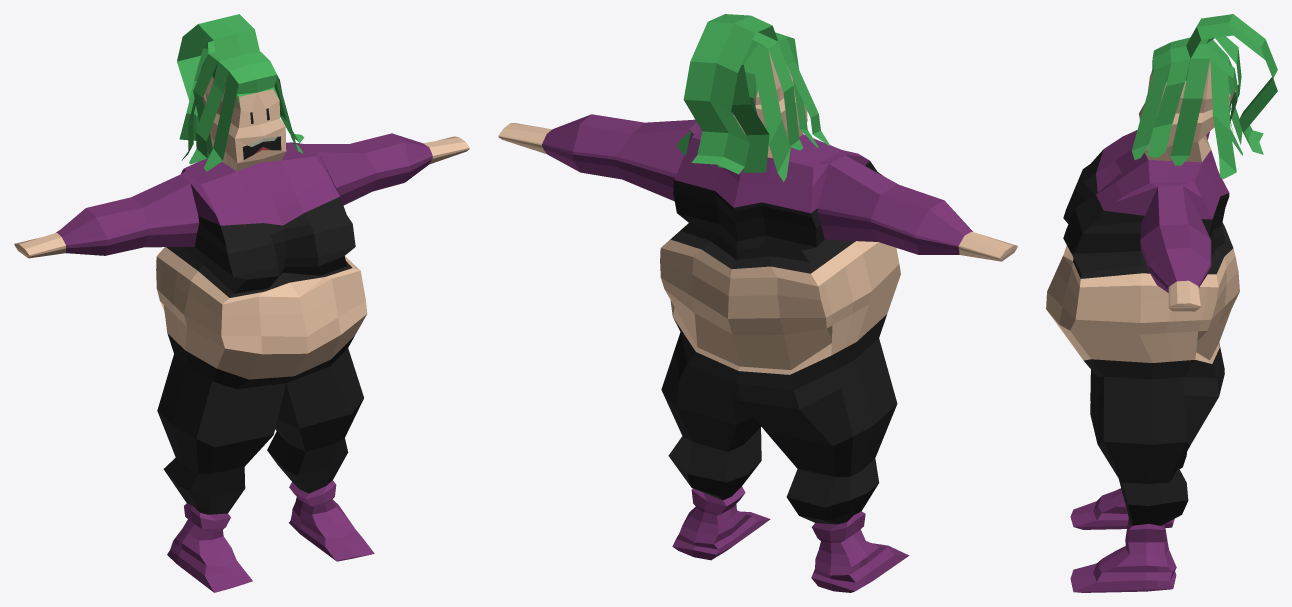
File: Fille3.fbx
The picture shows the model from 3 angles, left to right: view 1: azimuth 30°, elevation 25°; view 2: azimuth 150°, elevation 25°; view 3: azimuth 270°, elevation 25°; orthographic projection. The views are drawn at different scales.
Parts seen in each view (by area): view 1: Cube; view 2: Cube; view 3: Cube.
Boxes of the visible parts, x1=… form: Cube: x1=14, y1=14, x2=469, y2=592; Cube: x1=498, y1=14, x2=1017, y2=592; Cube: x1=1046, y1=14, x2=1277, y2=592.
Size of the model in its own units: 831 by 908 by 359.
